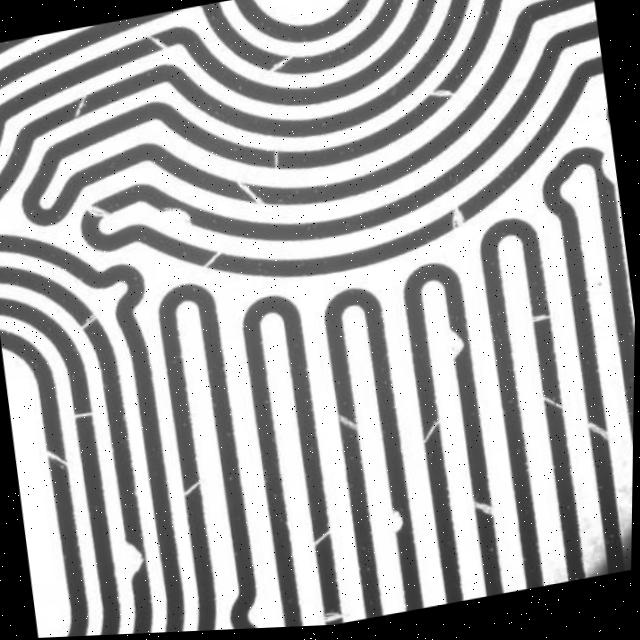break: (228, 171, 282, 222), (462, 490, 504, 539), (325, 405, 371, 449), (138, 20, 184, 62), (534, 376, 574, 424), (173, 471, 220, 509), (523, 305, 566, 346), (420, 77, 460, 118), (411, 414, 455, 449), (258, 52, 310, 81), (194, 242, 233, 279), (78, 197, 118, 233), (65, 80, 93, 131), (75, 306, 119, 338), (447, 199, 481, 240), (305, 525, 343, 558), (318, 596, 356, 629), (66, 401, 109, 428), (265, 141, 293, 181), (582, 418, 618, 449), (43, 448, 76, 479), (623, 437, 635, 468)
over-etching: (112, 514, 161, 588), (585, 139, 622, 209), (438, 321, 480, 374), (156, 196, 203, 235), (383, 497, 414, 542)
